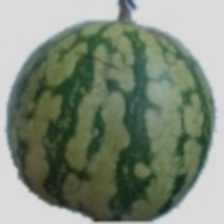watermelon: (35, 54, 224, 205)
